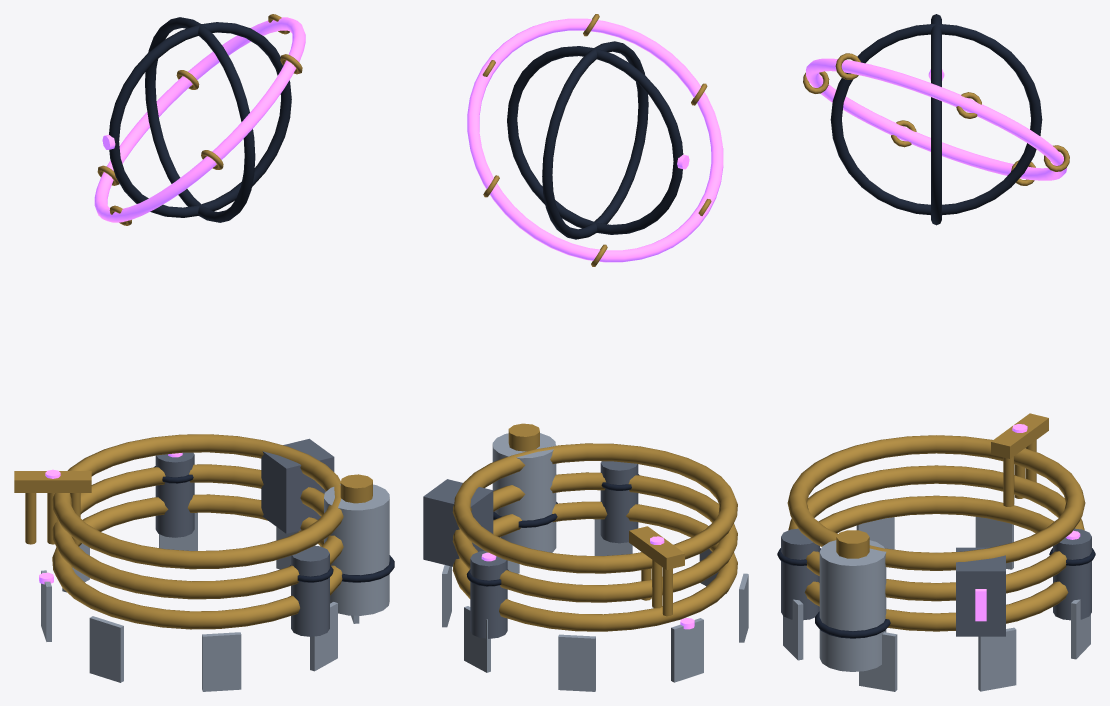
File: tower_singularity_rate_s8.glb
3 renders of one model, left to right at view 1: azimuth 30°, elevation 25°; view 2: azimuth 150°, elevation 25°; view 3: azimuth 270°, elevation 25°, orthographic. The views are drawn at different scales.
Parts seen in each view (by area): view 1: singularity_stem_coil2, singularity_stem_coil1, singularity_stem_coil0, singularity_halo_b_ring, singularity_coolant_tank, singularity_core_cage_b, singularity_core_cage_c, singularity_stem_junction, singularity_stem_cap4.363323129985824, singularity_stem_cap1.9198621771937625, singularity_stem_fin6, singularity_stem_fin7 (+6 smaller); view 2: singularity_stem_coil2, singularity_halo_b_ring, singularity_stem_coil1, singularity_stem_coil0, singularity_core_cage_b, singularity_core_cage_c, singularity_coolant_tank, singularity_stem_junction, singularity_stem_cap1.9198621771937625, singularity_stem_cap4.363323129985824, singularity_stem_fin1, singularity_stem_fin0 (+7 smaller); view 3: singularity_stem_coil2, singularity_stem_coil1, singularity_coolant_tank, singularity_stem_coil0, singularity_halo_b_ring, singularity_core_cage_c, singularity_stem_junction, singularity_stem_cap4.363323129985824, singularity_stem_cap1.9198621771937625, singularity_stem_fin3, singularity_core_cage_b, singularity_manifold_header (+8 smaller).
Part boxes in pixels (x1,y1,x2,y2): singularity_stem_coil2: (52,434,343,569); singularity_stem_coil1: (52,464,343,599); singularity_stem_coil0: (52,494,342,629); singularity_halo_b_ring: (94,17,305,222); singularity_coolant_tank: (324,484,389,615); singularity_core_cage_b: (109,22,291,217); singularity_core_cage_c: (145,17,255,222); singularity_stem_junction: (261,438,334,533); singularity_stem_cap4.363323129985824: (291,545,329,636); singularity_stem_cap1.9198621771937625: (155,452,194,537); singularity_stem_fin6: (202,632,241,691); singularity_stem_fin7: (89,616,123,682); singularity_stem_coil2: (452,443,737,573); singularity_halo_b_ring: (467,18,723,262); singularity_stem_coil1: (452,472,737,602); singularity_stem_coil0: (452,501,737,631); singularity_core_cage_b: (507,46,683,234); singularity_core_cage_c: (542,41,648,239); singularity_coolant_tank: (492,433,556,552); singularity_stem_junction: (423,479,493,566); singularity_stem_cap1.9198621771937625: (470,551,507,638); singularity_stem_cap4.363323129985824: (600,461,638,543); singularity_stem_fin1: (558,634,595,691); singularity_stem_fin0: (671,618,703,682); singularity_stem_coil2: (787,435,1085,570); singularity_stem_coil1: (788,465,1084,601); singularity_coolant_tank: (819,540,886,671); singularity_stem_coil0: (804,495,1068,631); singularity_halo_b_ring: (806,58,1066,180); singularity_core_cage_c: (830,23,1042,215); singularity_stem_junction: (956,547,1005,636); singularity_stem_cap4.363323129985824: (781,528,819,620); singularity_stem_cap1.9198621771937625: (1053,528,1091,620); singularity_stem_fin3: (978,627,1016,691); singularity_core_cage_b: (931,14,941,225); singularity_manifold_header: (991,413,1048,458).
Size of the model in its own units: 1.2 by 2.39 by 1.15.
